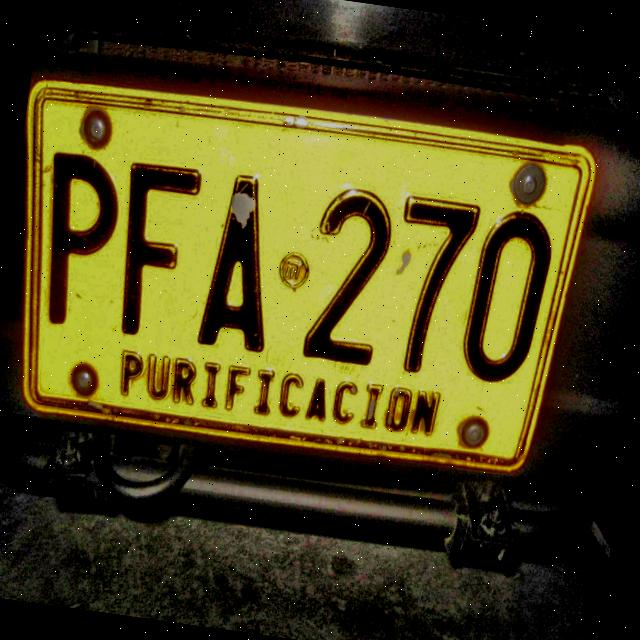0: (455, 198, 565, 401)
2: (298, 180, 401, 378)
7: (378, 188, 482, 388)
A: (192, 166, 294, 364)
F: (103, 156, 208, 347)
P: (42, 143, 128, 335)
